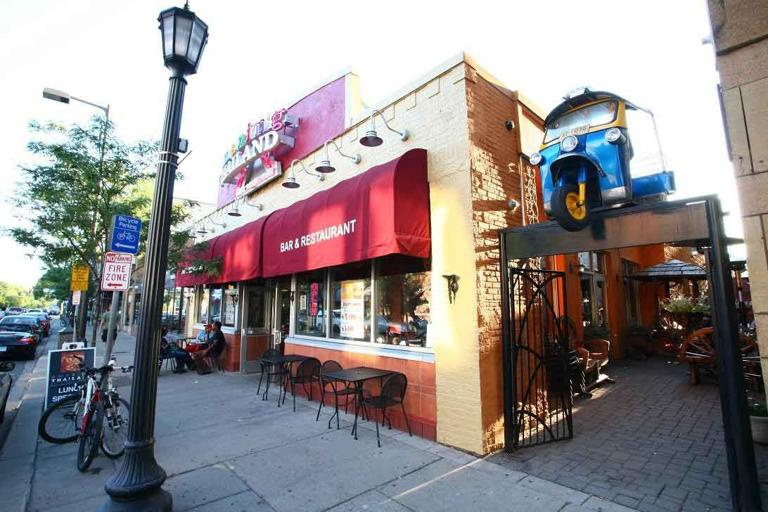non-vehicle: (40, 356, 105, 474), (97, 357, 132, 458)
